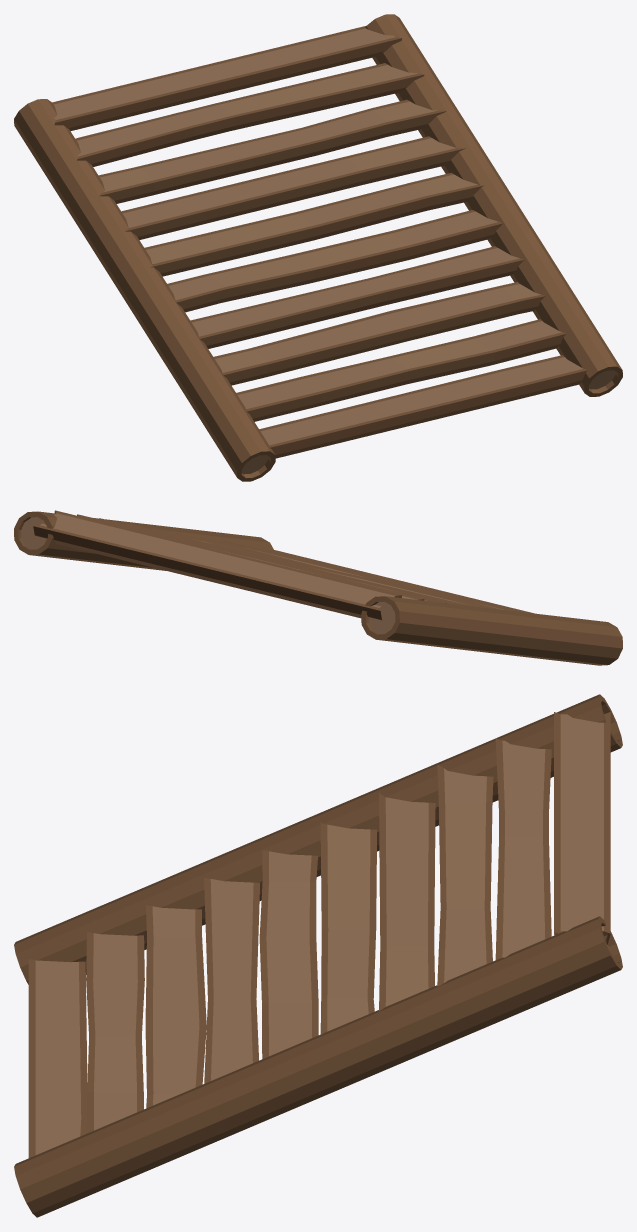
The model's file is mesh_wood_stairs_big.fbx.
3 views of the same model, one above another, from view 1: azimuth 30°, elevation 25°; view 2: azimuth 150°, elevation 25°; view 3: azimuth 270°, elevation 25° (orthographic). The views are drawn at different scales.
Parts seen in each view (by area): view 1: mesh_wood_stairs_big; view 2: mesh_wood_stairs_big; view 3: mesh_wood_stairs_big.
Part boxes in pixels (bbox=[...]): mesh_wood_stairs_big: bbox=[14, 14, 622, 481]; mesh_wood_stairs_big: bbox=[14, 510, 622, 665]; mesh_wood_stairs_big: bbox=[14, 694, 622, 1217].
Size of the model in its own units: 2 by 1.12 by 2.09.
